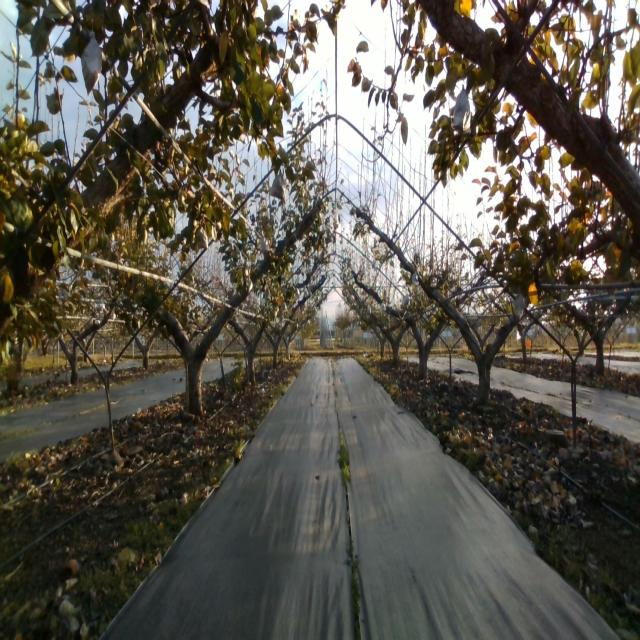pearbags: (80, 29, 103, 95), (452, 85, 472, 135), (270, 169, 286, 200), (512, 290, 526, 320), (194, 225, 210, 251)
